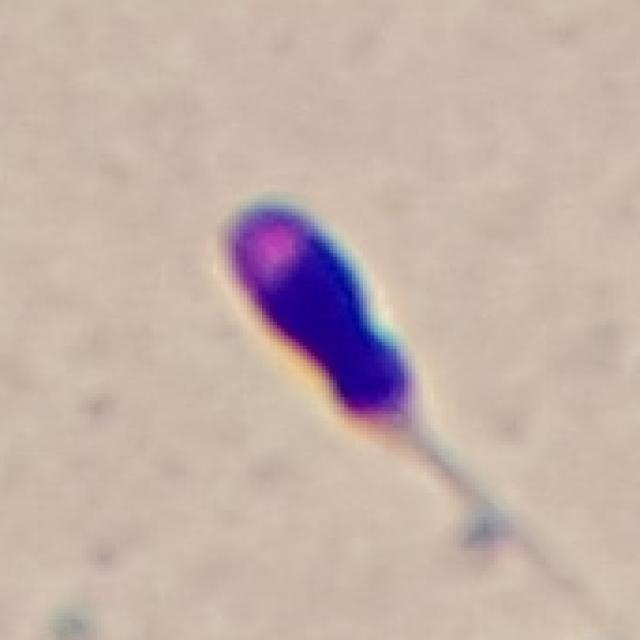abnormal sperm: (198, 180, 502, 566)
